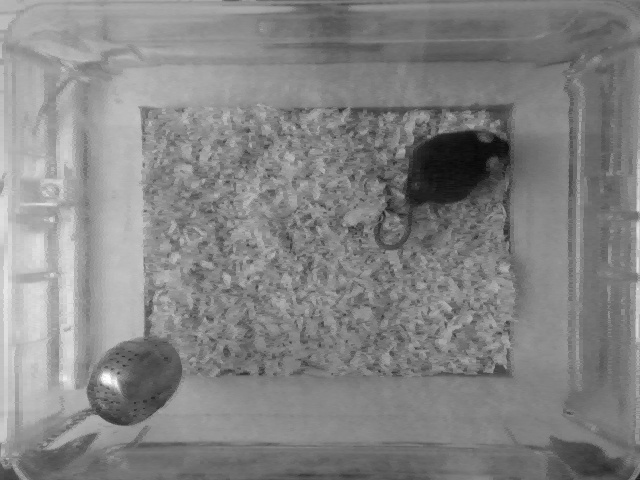mice: (368, 130, 514, 253)
